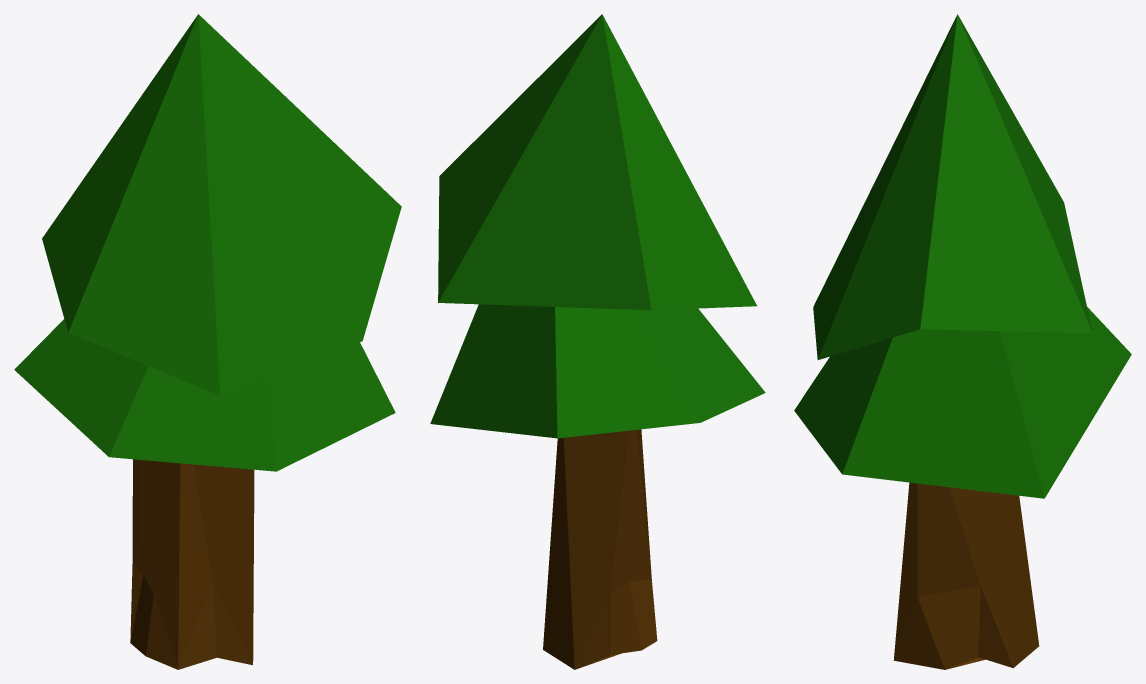
File: Pine tree#4.fbx
The picture shows the model from 3 angles, left to right: view 1: azimuth 30°, elevation 25°; view 2: azimuth 150°, elevation 25°; view 3: azimuth 270°, elevation 25°; orthographic projection. The views are drawn at different scales.
Parts seen in each view (by area): view 1: Pine tree#4; view 2: Pine tree#4; view 3: Pine tree#4.
Boxes of the visible parts, box(x1,y1,x2,y2) form: Pine tree#4: box(14, 14, 401, 669); Pine tree#4: box(430, 14, 765, 669); Pine tree#4: box(794, 14, 1131, 669).
Size of the model in its own units: 429 by 793 by 380.
